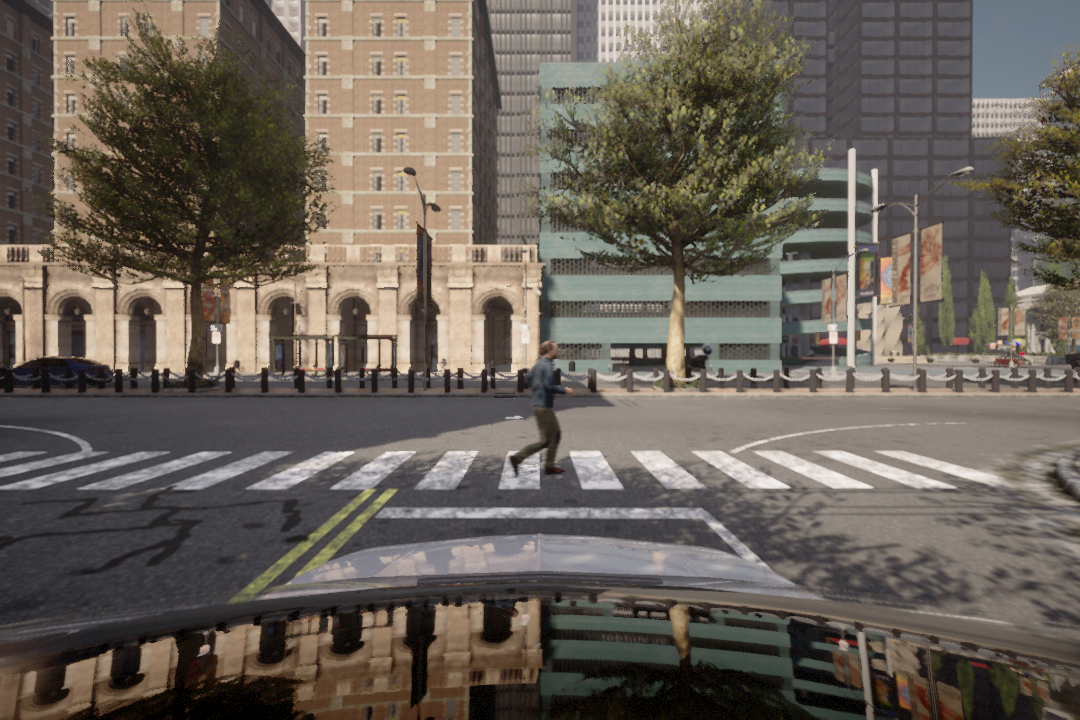walkside: (3, 449, 1029, 502)
